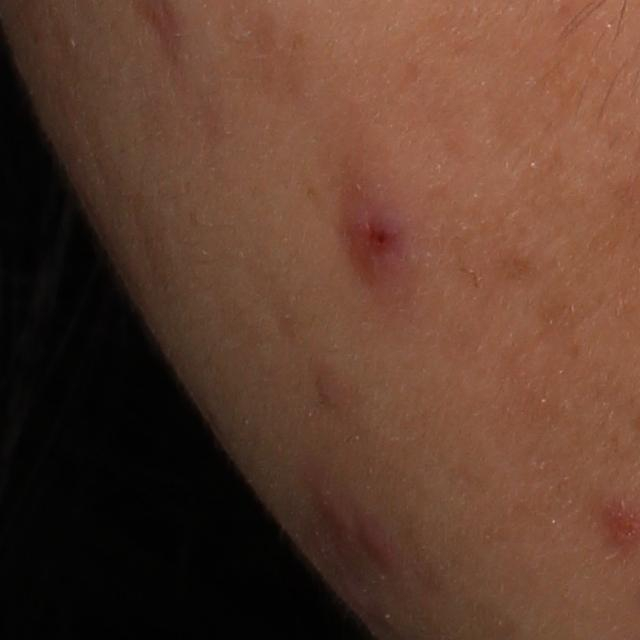papule: (347, 203, 413, 271), (362, 518, 396, 577)
